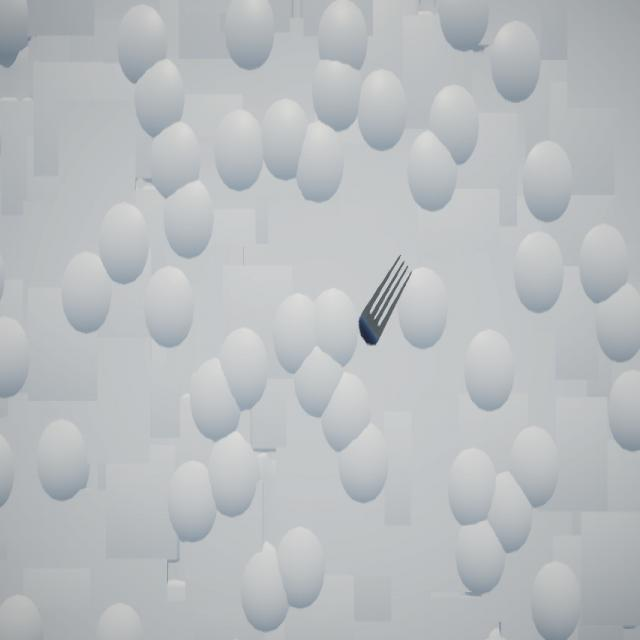top_folk: (360, 256, 413, 347)
